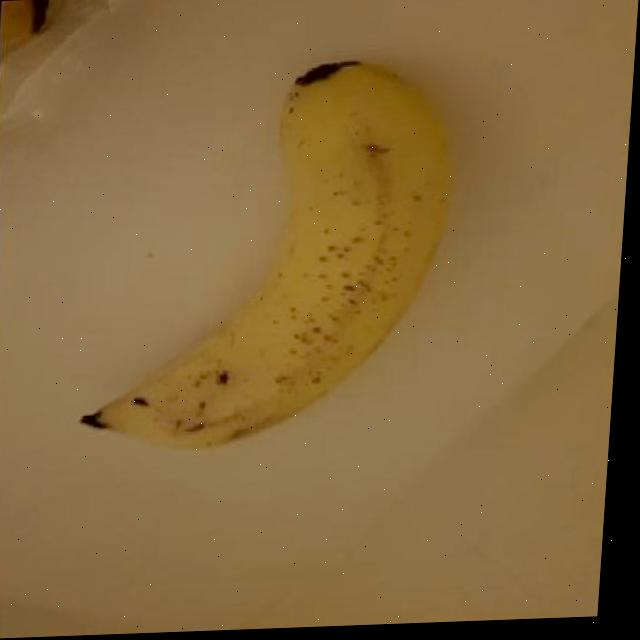banana: (65, 51, 476, 465)
